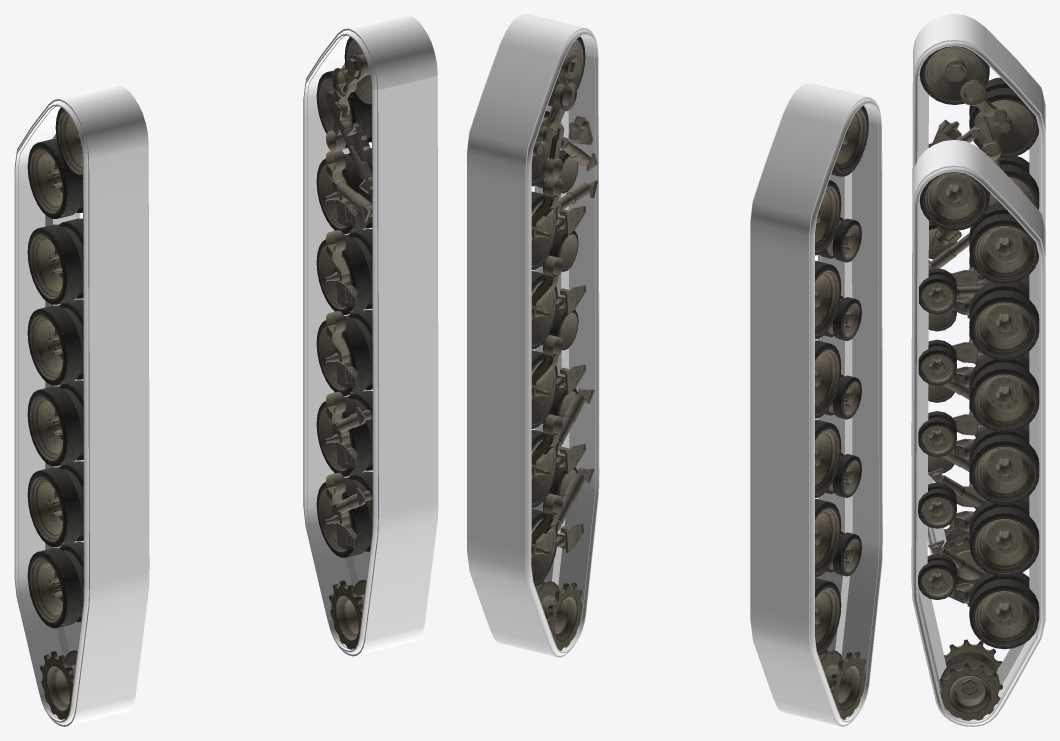
Rendered from Chassis.glb.
The picture shows the model from 3 angles, left to right: view 1: azimuth 30°, elevation 25°; view 2: azimuth 150°, elevation 25°; view 3: azimuth 270°, elevation 25°; orthographic projection. The views are drawn at different scales.
Visible parts, largest first — view 1: set_0_group_0, set_1_group_0, set_2_group_0, set_3_group_0; view 2: set_0_group_0, set_1_group_0, set_2_group_0, set_3_group_0; view 3: set_2_group_0, set_1_group_0, set_3_group_0, set_0_group_0.
Boxes of the visible parts, <box> form: set_0_group_0: <box>14,84,149,726</box>; set_1_group_0: <box>303,14,438,656</box>; set_2_group_0: <box>316,37,372,649</box>; set_3_group_0: <box>27,107,83,719</box>; set_0_group_0: <box>750,83,882,726</box>; set_1_group_0: <box>467,14,599,657</box>; set_2_group_0: <box>531,36,598,650</box>; set_3_group_0: <box>815,105,868,719</box>; set_2_group_0: <box>918,172,1039,720</box>; set_1_group_0: <box>911,140,1045,726</box>; set_3_group_0: <box>919,46,1039,584</box>; set_0_group_0: <box>911,14,1045,554</box>.
Size of the model in its own units: 3.42 by 5.81 by 1.26.
Materials: 4 (2 with a texture image).
